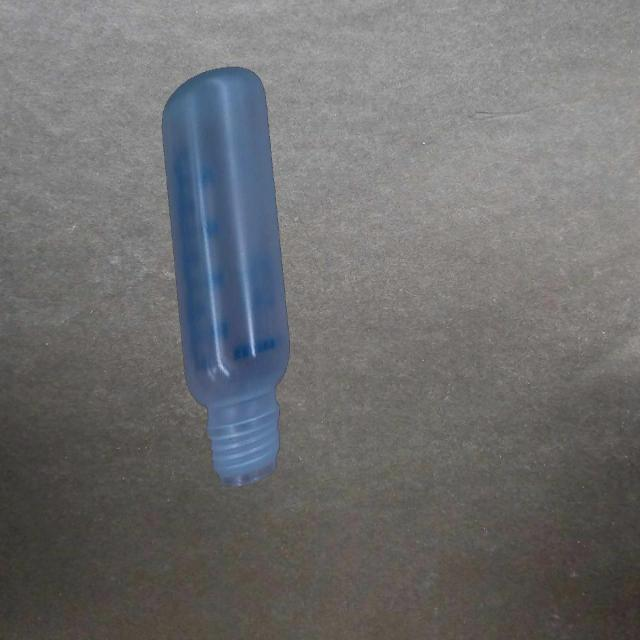bottle: (160, 64, 292, 491)
